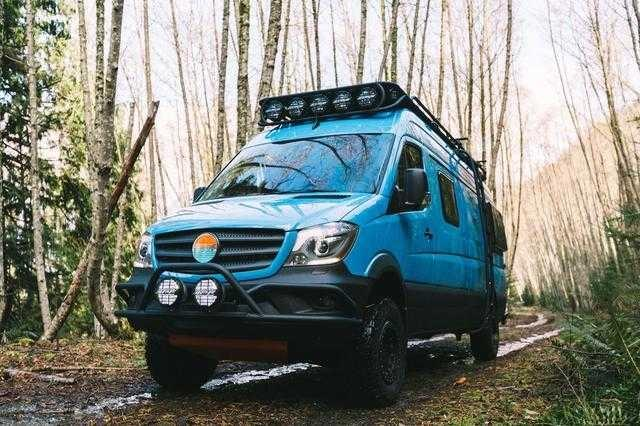car: (121, 97, 503, 389)
